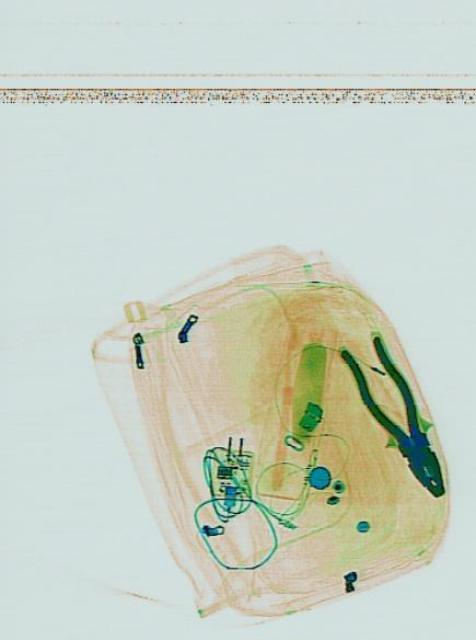Pliers: (335, 322, 458, 510)
